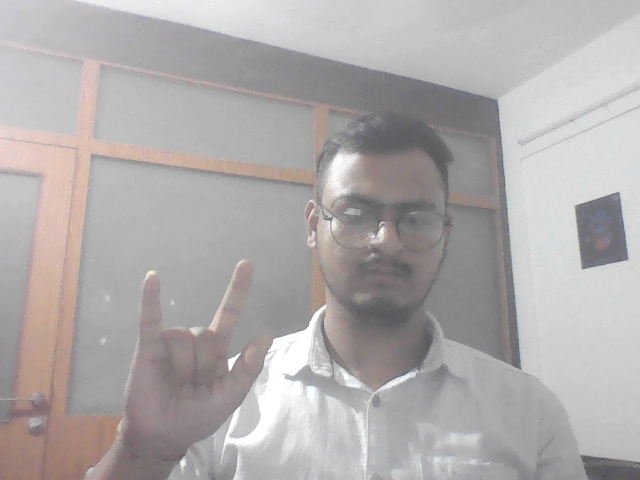I Love You: (113, 254, 274, 452)
